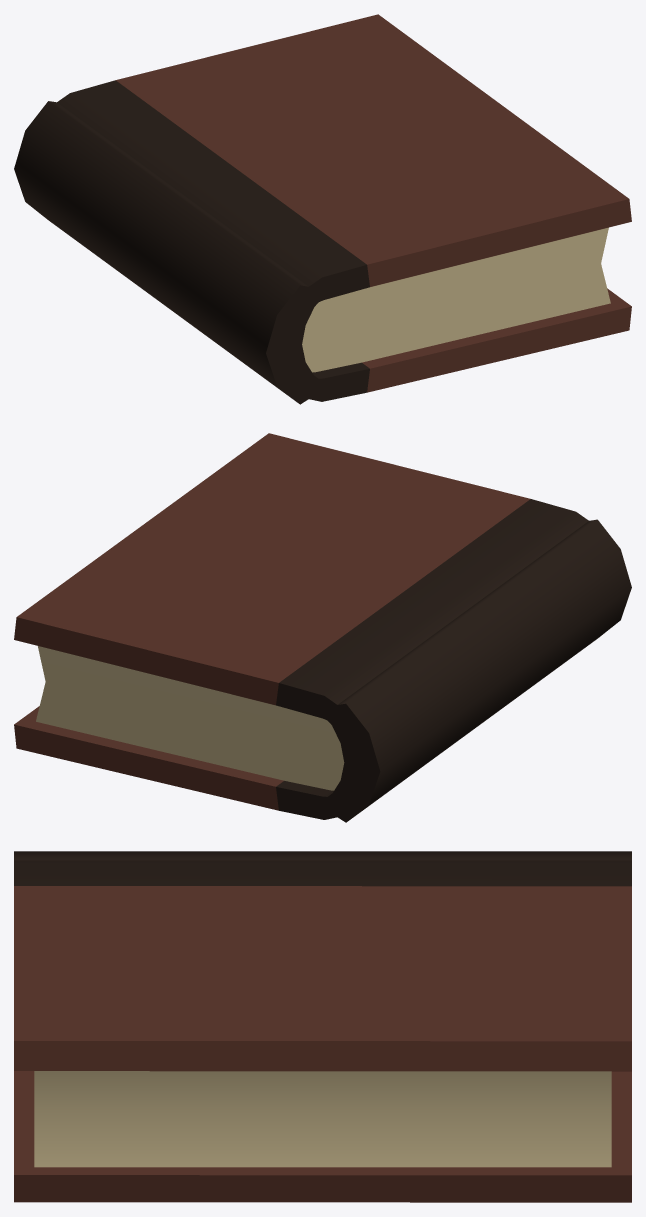
The model's file is Book_I.fbx.
3 renders of one model, top to bottom at view 1: azimuth 30°, elevation 25°; view 2: azimuth 150°, elevation 25°; view 3: azimuth 270°, elevation 25°, orthographic. The views are drawn at different scales.
Parts seen in each view (by area): view 1: Book_I; view 2: Book_I; view 3: Book_I.
Part boxes in pixels (<box>): Book_I: <box>14,14,631,404</box>; Book_I: <box>14,433,631,822</box>; Book_I: <box>14,851,631,1202</box>.
Size of the model in its own units: 33.9 by 11.62 by 40.32.
